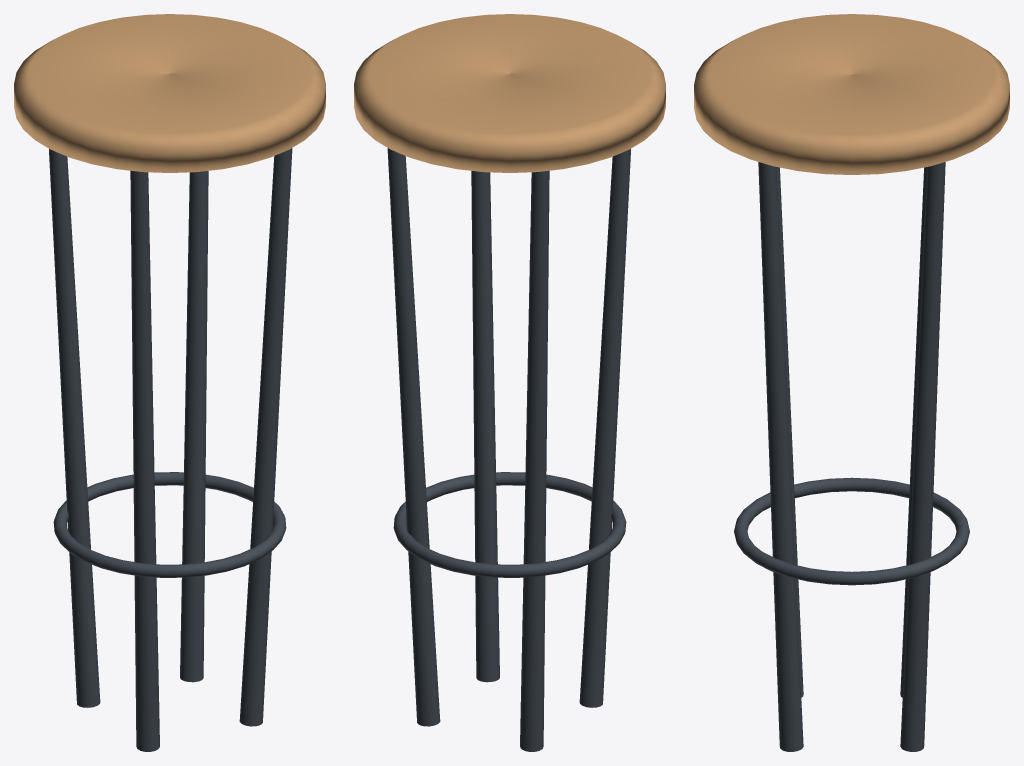
The model's file is barstool.glb.
3 renders of one model, left to right at view 1: azimuth 30°, elevation 25°; view 2: azimuth 150°, elevation 25°; view 3: azimuth 270°, elevation 25°, orthographic.
Parts seen in each view (by area): view 1: material-0-leg, material-1-top; view 2: material-0-leg, material-1-top; view 3: material-1-top, material-0-leg.
Part boxes in pixels (x1,y1,x2,y2): material-0-leg: (49,148,292,751); material-1-top: (14,14,325,172); material-0-leg: (387,148,630,751); material-1-top: (354,14,665,172); material-1-top: (694,14,1009,174); material-0-leg: (734,162,969,751).
Bounding box in the file's own units: 0.42 × 0.95 × 0.42.
